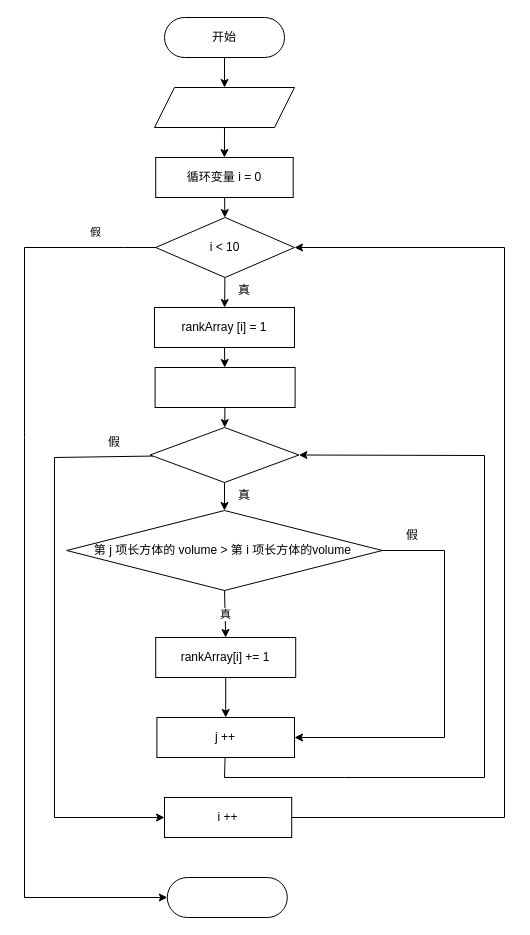
Some shapes in this 530 by 935 pixel diagram are drawn without their labels. The shapes that lost their labels are listed below. From the top down, each one's box as (x1, y1, x2, y2) in pixels, then its label:
(154, 86, 294, 128): 输入*p和*rankArray
(154, 366, 295, 408): 循环变量 j = 0
(149, 426, 299, 482): j < 10
(166, 876, 287, 918): 结束
